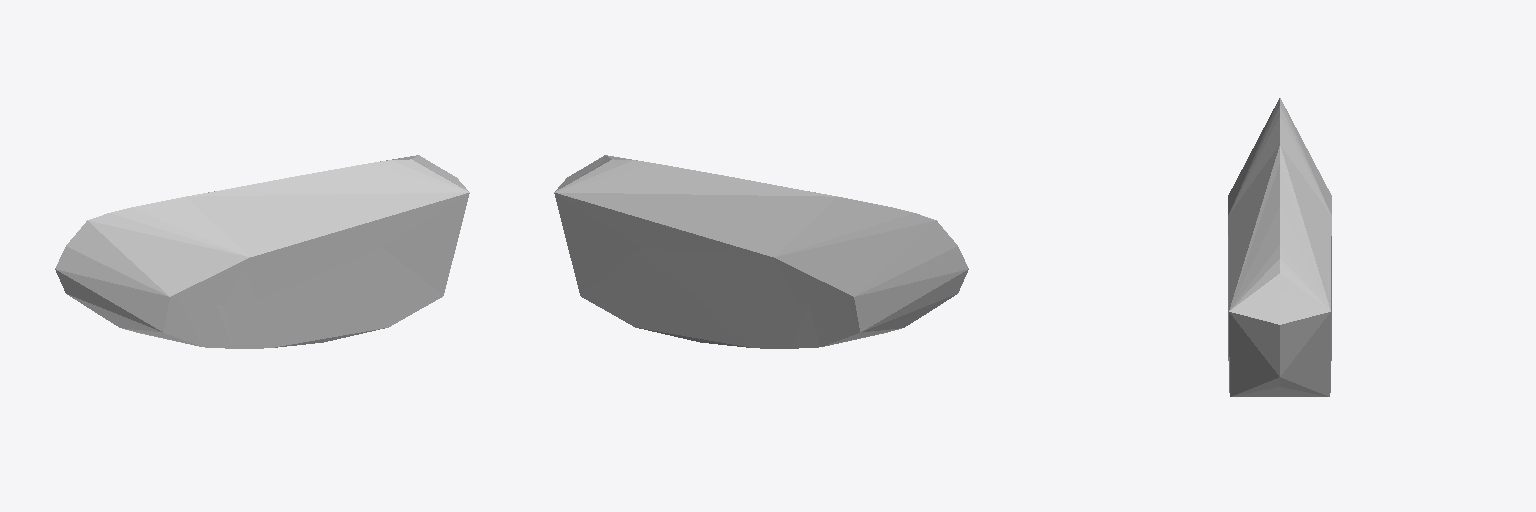
Rendered from mouse.obj.
3 renders of one model, left to right at view 1: azimuth 30°, elevation 25°; view 2: azimuth 150°, elevation 25°; view 3: azimuth 270°, elevation 25°, orthographic.
Parts seen in each view (by area): view 1: grp1; view 2: grp1; view 3: grp1.
Part boxes in pixels (x1,y1,x2,y2): grp1: (55, 155, 469, 348); grp1: (554, 155, 968, 348); grp1: (1228, 98, 1331, 396).
Size of the model in its own units: 186 by 69.79 by 41.69.